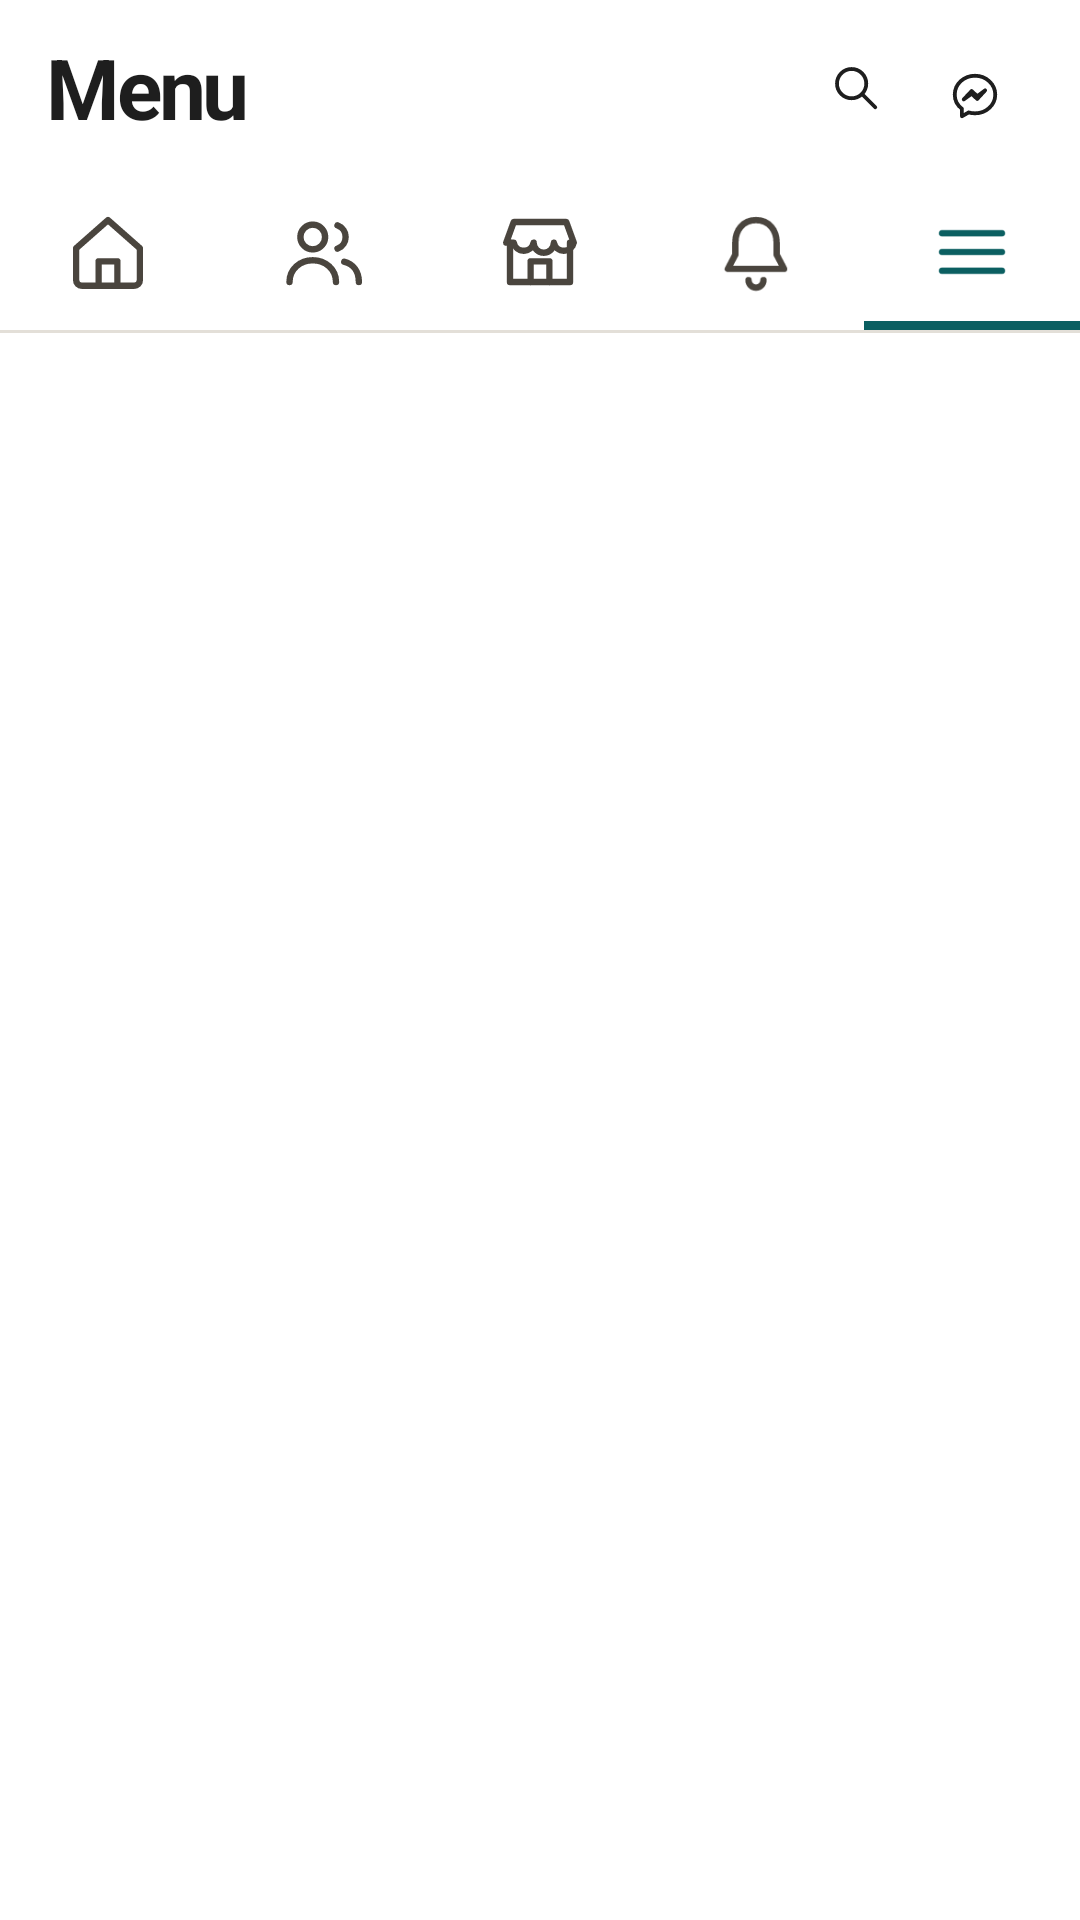

Icon bounding boxes for this 1080w x 1920h phone screenshot, format bbox=[x1, y1, x2, y2]:
ol bell: bbox=[724, 217, 788, 291]
ol home: bbox=[73, 217, 143, 289]
ol menu: bbox=[938, 229, 1006, 275]
ol people: bbox=[286, 221, 362, 286]
ol search: bbox=[835, 67, 878, 110]
ol store: bbox=[503, 218, 577, 286]
